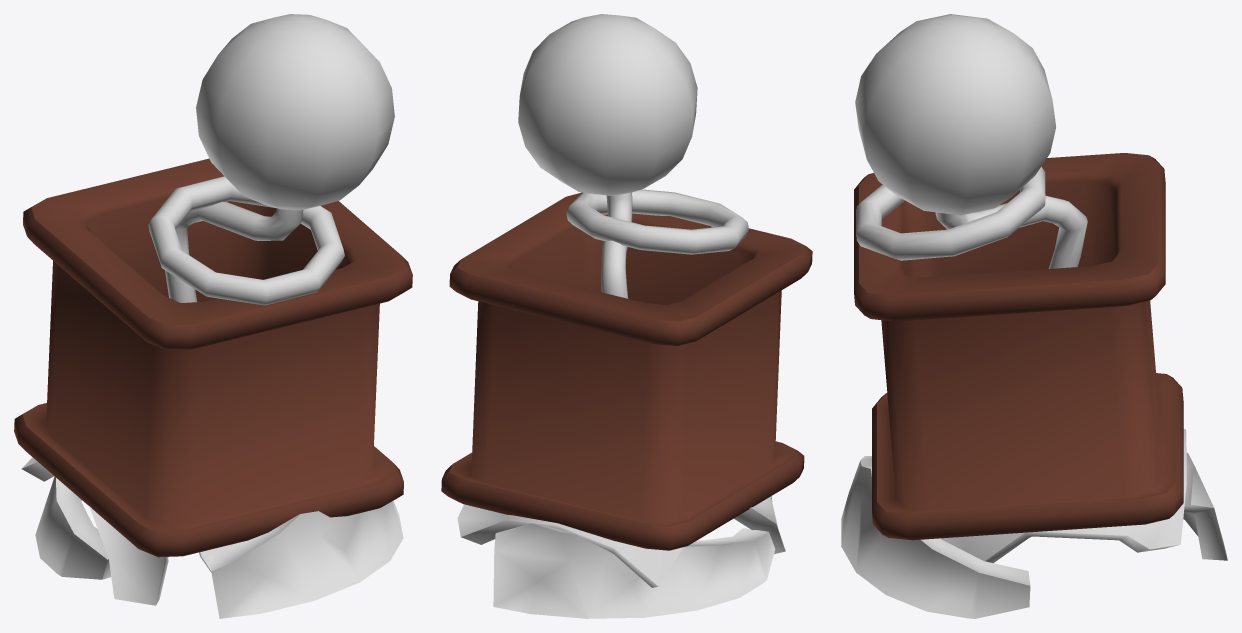
File: LightningBox_1.fbx
The picture shows the model from 3 angles, left to right: view 1: azimuth 30°, elevation 25°; view 2: azimuth 150°, elevation 25°; view 3: azimuth 270°, elevation 25°; orthographic projection. The views are drawn at different scales.
Parts seen in each view (by area): view 1: polySurface12; view 2: polySurface12; view 3: polySurface12.
Part boxes in pixels (box(x1,y1,x2,y2)): polySurface12: box(14, 14, 412, 618); polySurface12: box(441, 14, 812, 618); polySurface12: box(841, 14, 1227, 618).
Size of the model in its own units: 225 by 363 by 233.
